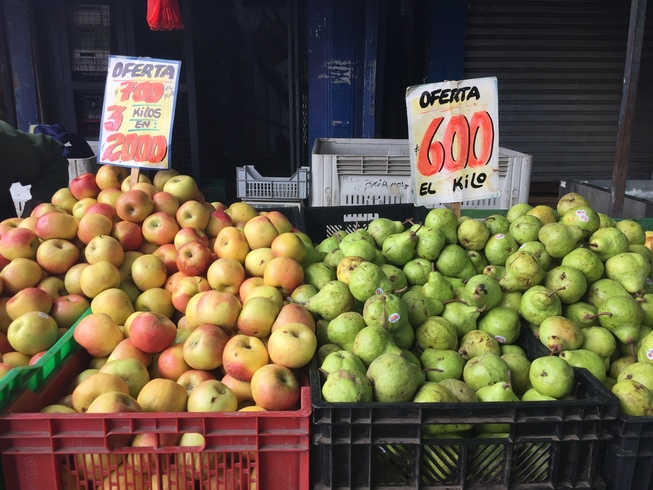precio: (401, 65, 506, 214), (91, 50, 185, 176)
